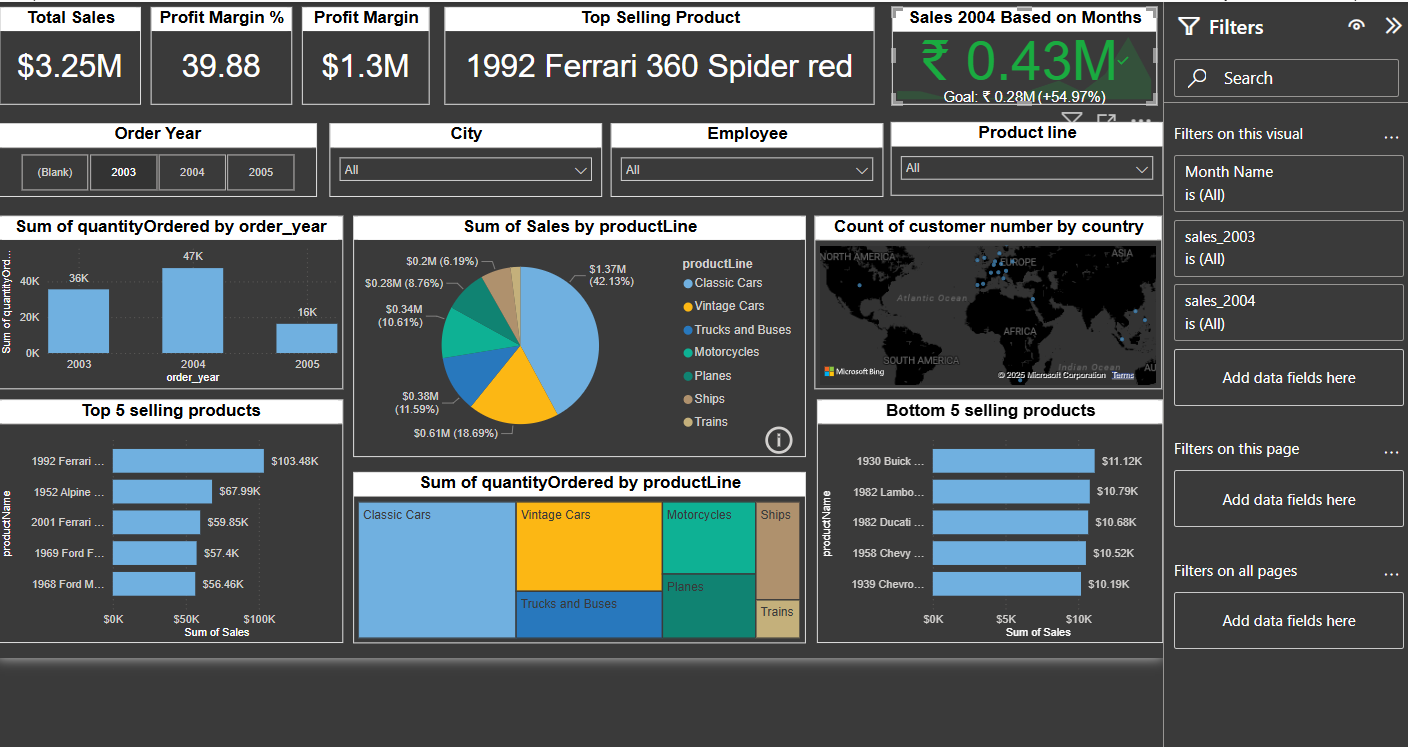

The dashboard page shown, as its layout file describes it:
{"tool":"powerbi","page":{"name":"Page 1","canvas":[1280,720],"ordinal":0},"visuals":[{"type":"card","title":"Top Selling Product","fields":{"Values":["order details.Top Ordered Product"]},"box":[491.3,5.5,472,107],"z":0},{"type":"kpi","title":"Sales 2004 Based on Months","fields":{"Indicator":["orders.sales_2004"],"Goal":["orders.sales_2003"],"TrendLine":["orders.Month Name"]},"box":[982.5,5.5,290.9,107],"z":1000},{"type":"slicer","title":"Order Year","fields":{"Values":["orders.order_year"]},"box":[0,133.1,351.3,81],"z":2000},{"type":"barChart","title":"Top 5 selling products","fields":{"Category":["products.productName"],"Y":["Sum(order details.Sales)"]},"box":[0,436.4,380.1,267.6],"z":3000},{"type":"pieChart","fields":{"Y":["Sum(order details.Sales)"],"Category":["products.productLine"]},"box":[391.1,234.6,496.7,264.8],"z":4000},{"type":"map","title":"Count of customer number by country","fields":{"Category":["customers.country"]},"box":[897.4,234.6,381.5,190.7],"z":5000},{"type":"columnChart","fields":{"Y":["Sum(order details.quantityOrdered)"],"Category":["orders.order_year"]},"box":[0,234.6,380.1,190.7],"z":6000},{"type":"treemap","fields":{"Values":["Sum(order details.quantityOrdered)"],"Group":["products.productLine"]},"box":[391.1,516,496.7,188],"z":7000},{"type":"card","title":"Profit Margin","fields":{"Values":["order details.total_profit"]},"box":[334.8,5.5,140,107],"z":8000},{"type":"card","title":"Profit Margin %","fields":{"Values":["order details.profit_margin_%"]},"box":[168.8,5.5,155.1,107],"z":9000},{"type":"card","title":"Total Sales","fields":{"Values":["Sum(order details.Sales)"]},"box":[2.7,5.5,155.1,107],"z":10000},{"type":"slicer","title":"City","fields":{"Values":["customers.city"]},"box":[365,133.1,299.1,81],"z":11000},{"type":"slicer","title":"Employee","fields":{"Values":["employees.employeefull name"]},"box":[673.8,133.1,299.1,81],"z":12000},{"type":"slicer","title":"Product line","fields":{"Values":["products.productLine"]},"box":[981.1,131.7,299.1,81],"z":13000},{"type":"barChart","title":"Bottom 5 selling products","fields":{"Category":["products.productName"],"Y":["Sum(order details.Sales)"]},"box":[899.9,436.4,380.1,267.6],"z":14000},{"type":"actionButton","box":[838.1,460.4,48.5,39.9],"z":15000}]}

Visuals, with their boxes on the page's 1280x720 design canvas (x1, y1, x2, y2). These are canvas units, not pixel positions in the 1408x747 screenshot, which may show the page scaled, cropped or inside an application window:
"Top Selling Product" card: bbox(491, 6, 963, 112)
"Sales 2004 Based on Months" kpi: bbox(982, 6, 1273, 112)
"Order Year" slicer: bbox(0, 133, 351, 214)
"Top 5 selling products" barChart: bbox(0, 436, 380, 704)
pieChart - Sum(order details.Sales) x products.productLine: bbox(391, 235, 888, 499)
"Count of customer number by country" map: bbox(897, 235, 1279, 425)
columnChart - Sum(order details.quantityOrdered) x orders.order_year: bbox(0, 235, 380, 425)
treemap - Sum(order details.quantityOrdered) x products.productLine: bbox(391, 516, 888, 704)
"Profit Margin" card: bbox(335, 6, 475, 112)
"Profit Margin %" card: bbox(169, 6, 324, 112)
"Total Sales" card: bbox(3, 6, 158, 112)
"City" slicer: bbox(365, 133, 664, 214)
"Employee" slicer: bbox(674, 133, 973, 214)
"Product line" slicer: bbox(981, 132, 1280, 213)
"Bottom 5 selling products" barChart: bbox(900, 436, 1280, 704)
actionButton: bbox(838, 460, 887, 500)
